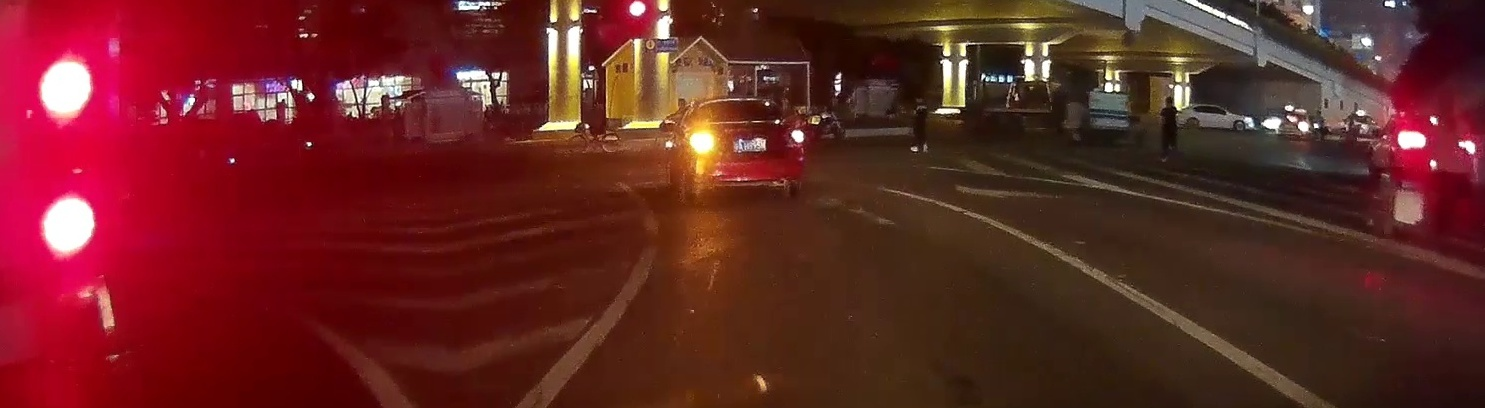L_light: (691, 134, 715, 151)
R_light: (787, 129, 804, 145)
T_light: (734, 101, 747, 104)
night-left: (687, 97, 804, 200)
